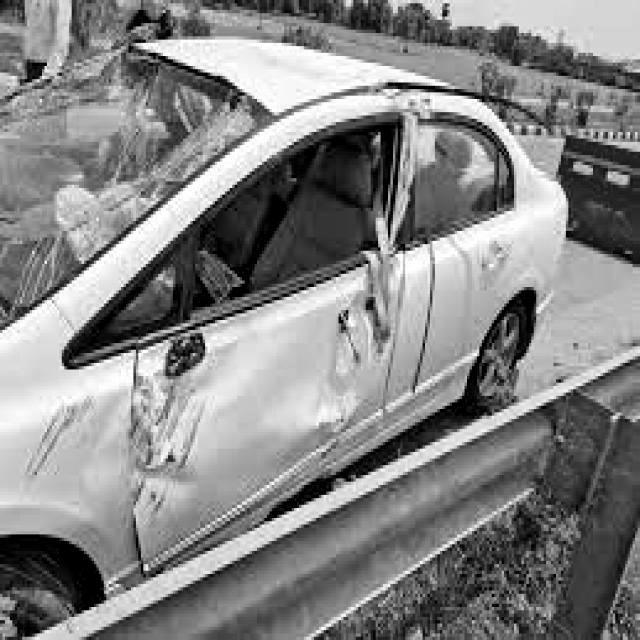Front-windscreen-damage: (1, 58, 234, 296)
doorouter-dent: (140, 272, 398, 566)
fender-dent: (8, 377, 132, 516)
